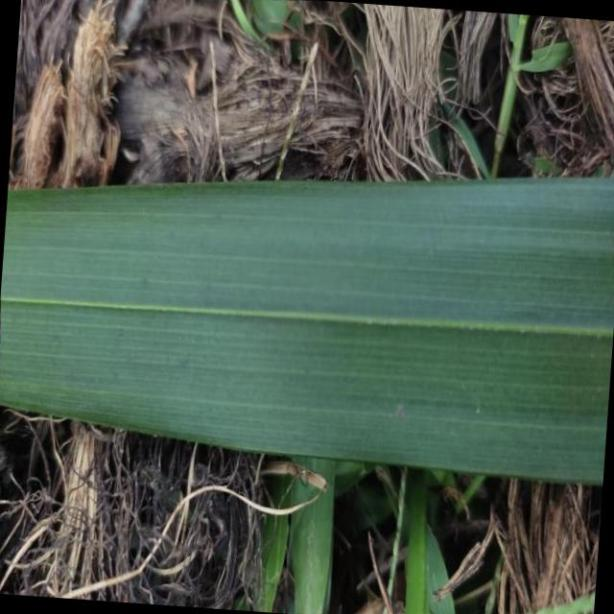Healthy: (0, 176, 614, 488)
